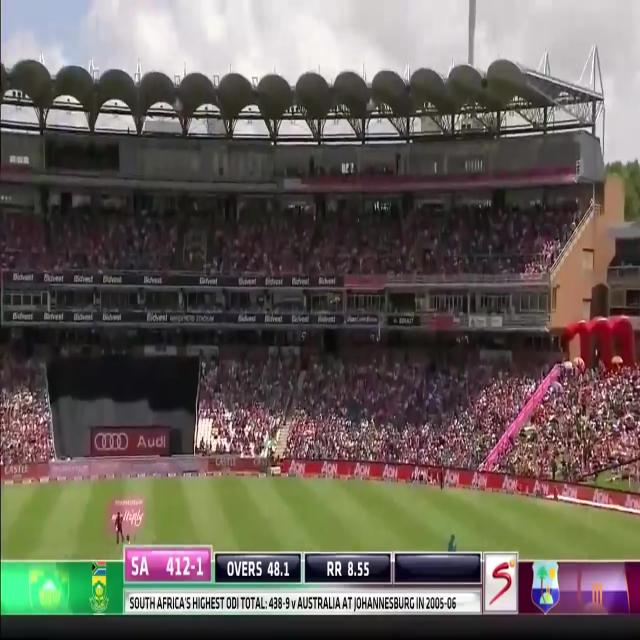Fielder: (114, 508, 126, 550)
